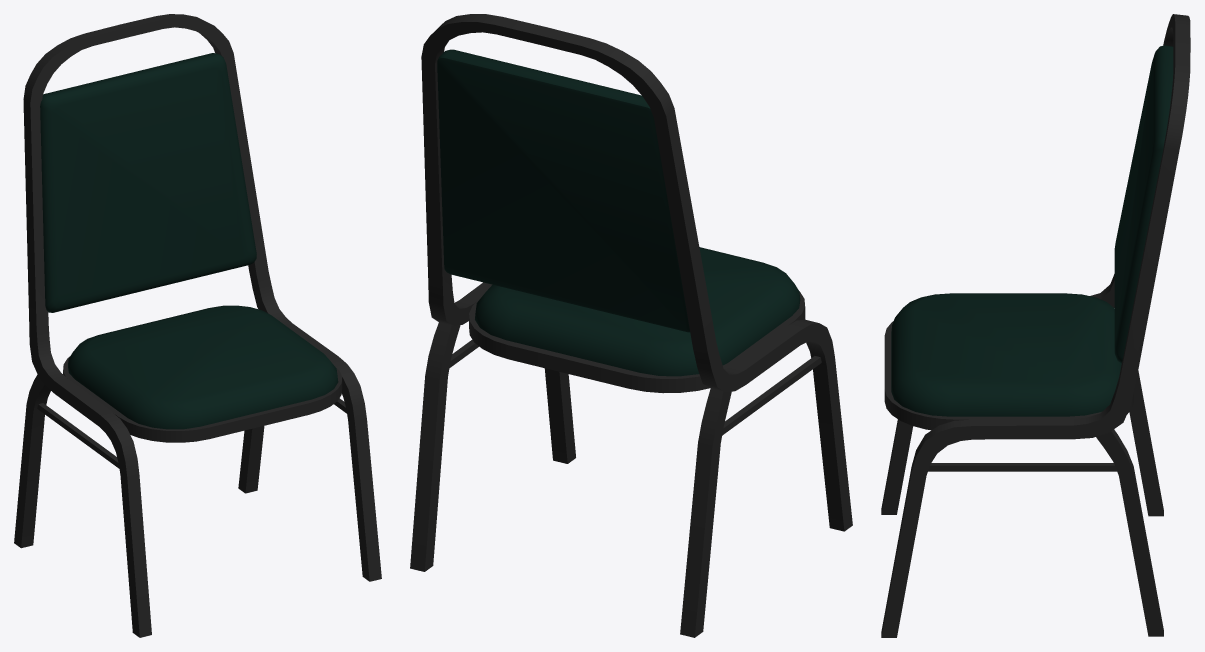
The model's file is Chair.obj.
The picture shows the model from 3 angles, left to right: view 1: azimuth 30°, elevation 25°; view 2: azimuth 150°, elevation 25°; view 3: azimuth 270°, elevation 25°; orthographic projection. The views are drawn at different scales.
Visible parts, largest first — view 1: Conference_Chair; view 2: Conference_Chair; view 3: Conference_Chair.
Boxes of the visible parts, x1=… form: Conference_Chair: x1=14, y1=14, x2=381, y2=637; Conference_Chair: x1=410, y1=14, x2=852, y2=637; Conference_Chair: x1=881, y1=14, x2=1190, y2=637.
Bounding box in the file's own units: 1.88 × 3.59 × 1.9.
2 materials, 2 textured.
